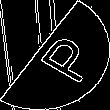P_NW: (18, 25, 92, 85)
